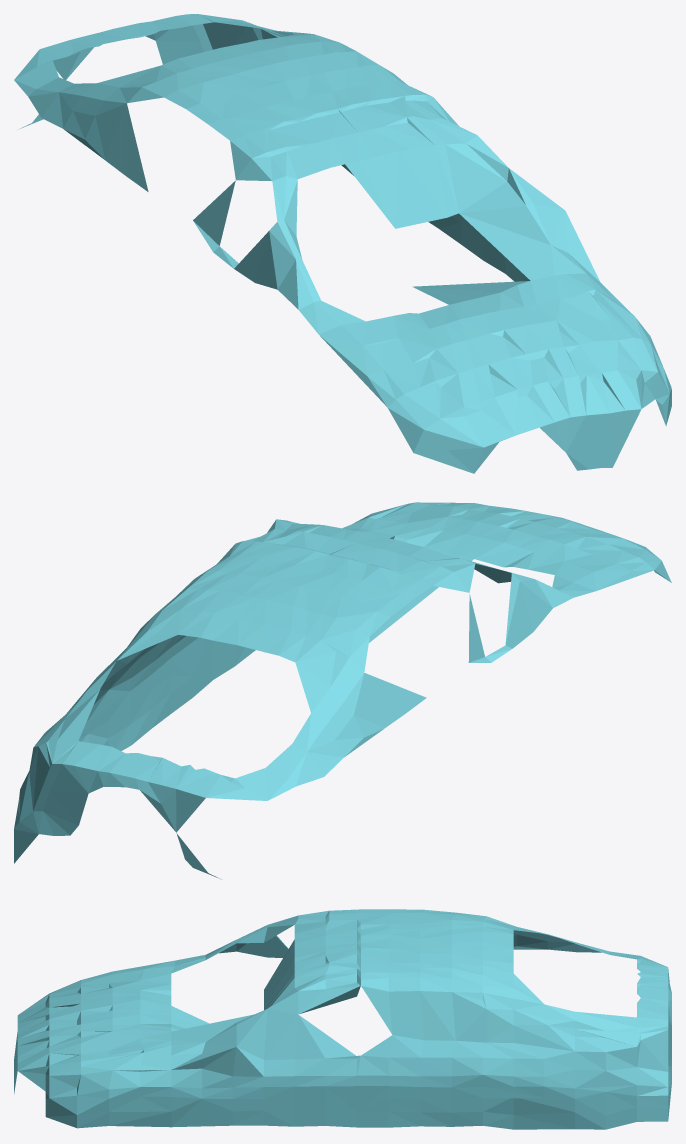
The model's file is vehicle.glb.
3 views of the same model, one above another, from view 1: azimuth 30°, elevation 25°; view 2: azimuth 150°, elevation 25°; view 3: azimuth 270°, elevation 25° (orthographic). The views are drawn at different scales.
Visible parts, largest first — view 1: Vehicle; view 2: Vehicle; view 3: Vehicle.
Part boxes in pixels (x1=…): Vehicle: x1=14, y1=14, x2=671, y2=473; Vehicle: x1=14, y1=502, x2=671, y2=879; Vehicle: x1=14, y1=909, x2=671, y2=1129.
Bounding box in the file's own units: 1.64 × 1.04 × 4.44.
